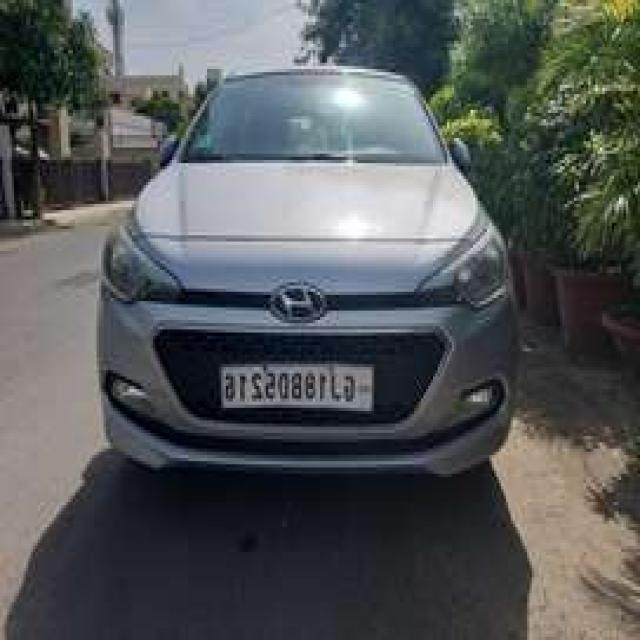license_plate: (214, 358, 379, 418)
